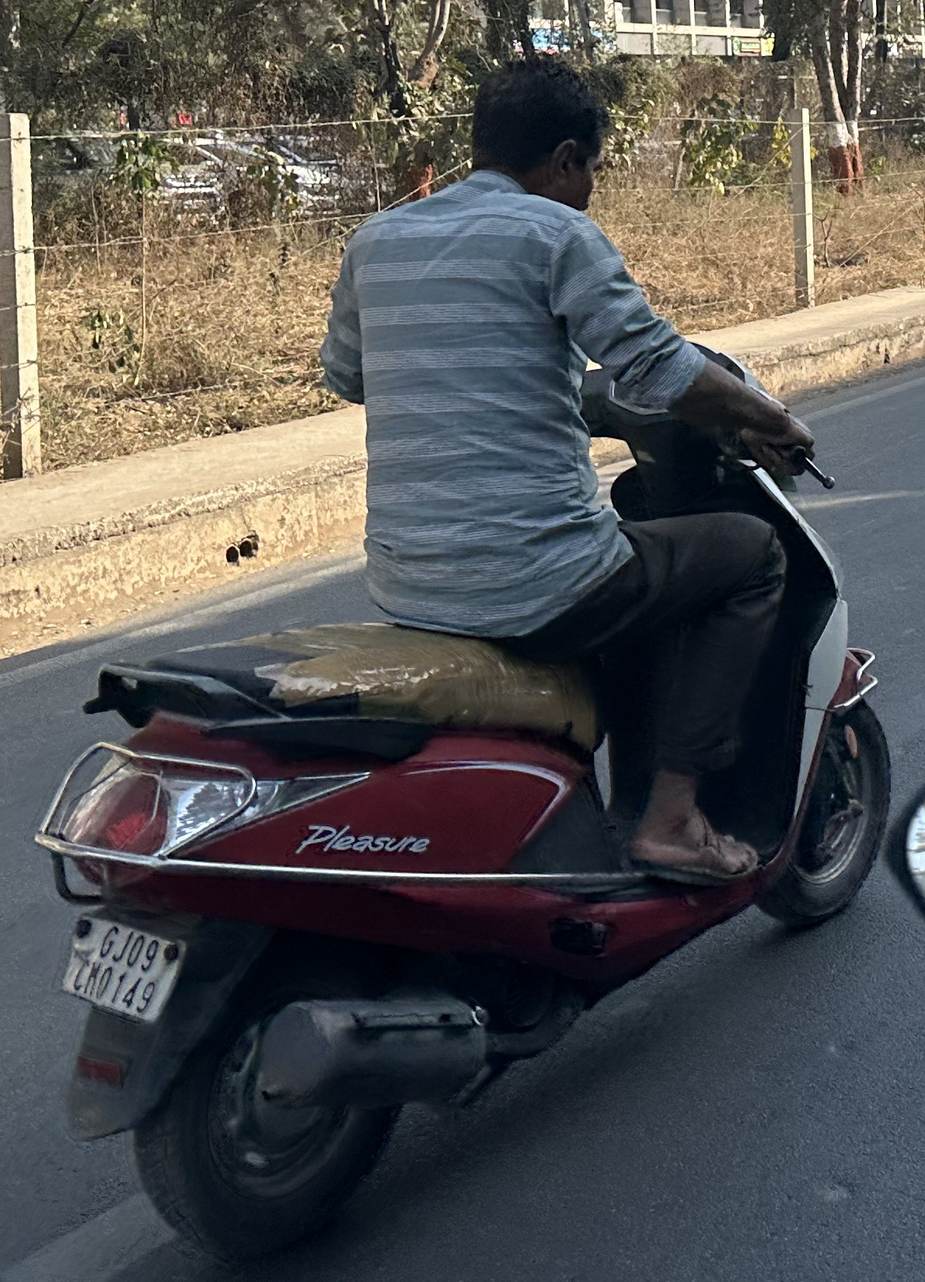BikeWithRider: (19, 41, 909, 1276)
NoHelmet: (448, 47, 623, 222)
